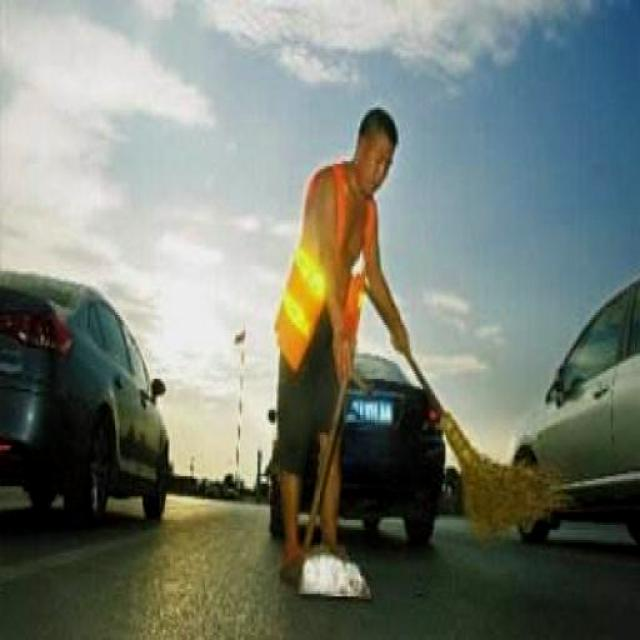face_nomask: (364, 149, 397, 191)
head_nohelmet: (358, 103, 403, 151)
person: (246, 103, 412, 601)
vest: (272, 161, 387, 374)
